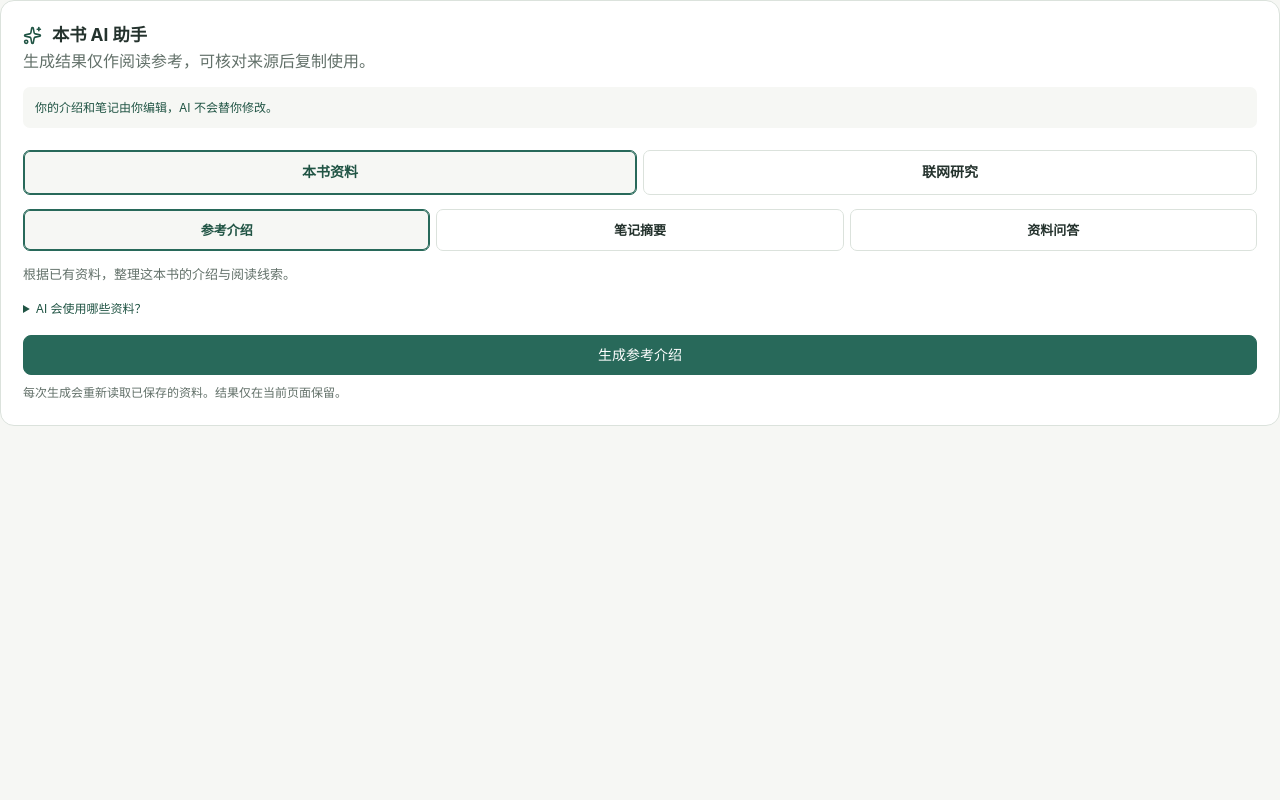
book AI read-only sidebar › clears the reference result, source details and manual-copy text without another request
Step 1. Click the button "生成参考介绍" → (640, 355), box [23, 335, 1257, 375]
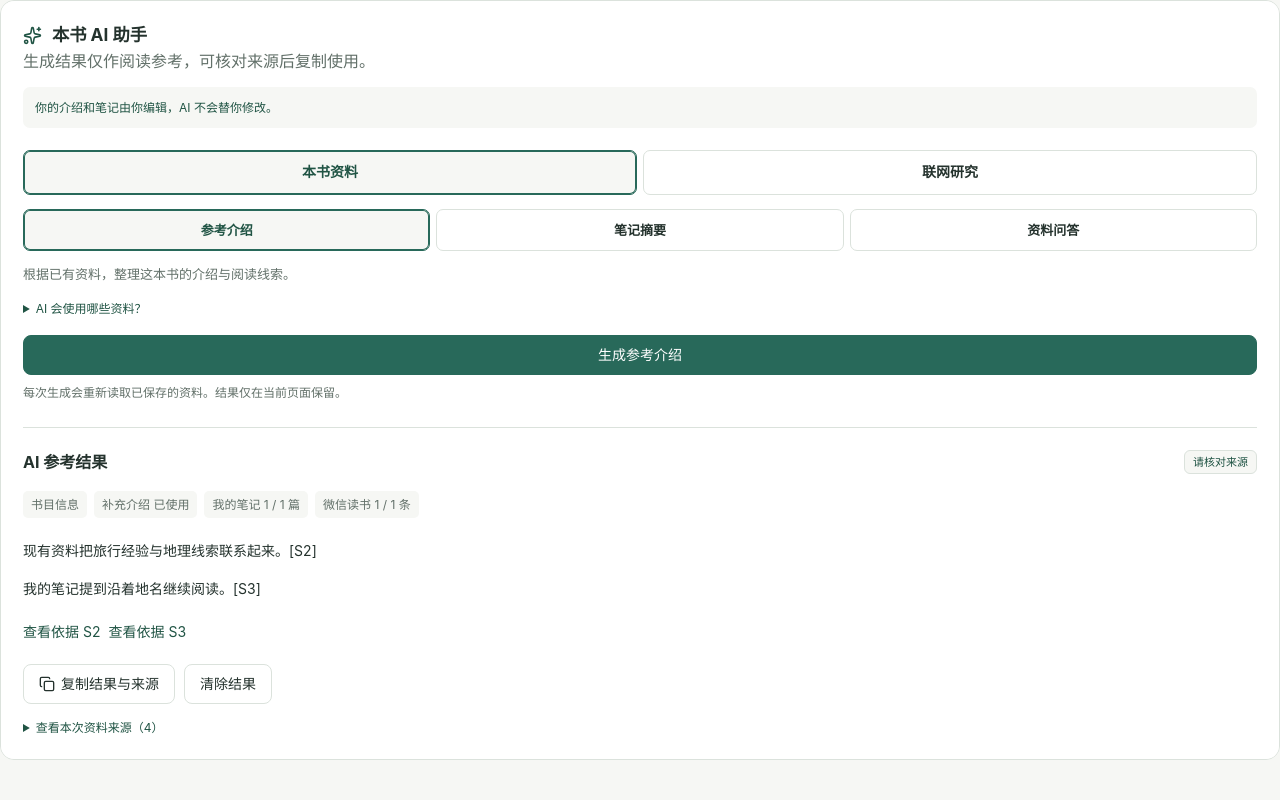
Step 2. Click the button "查看依据 S3" → (147, 632), box [108, 615, 186, 648]
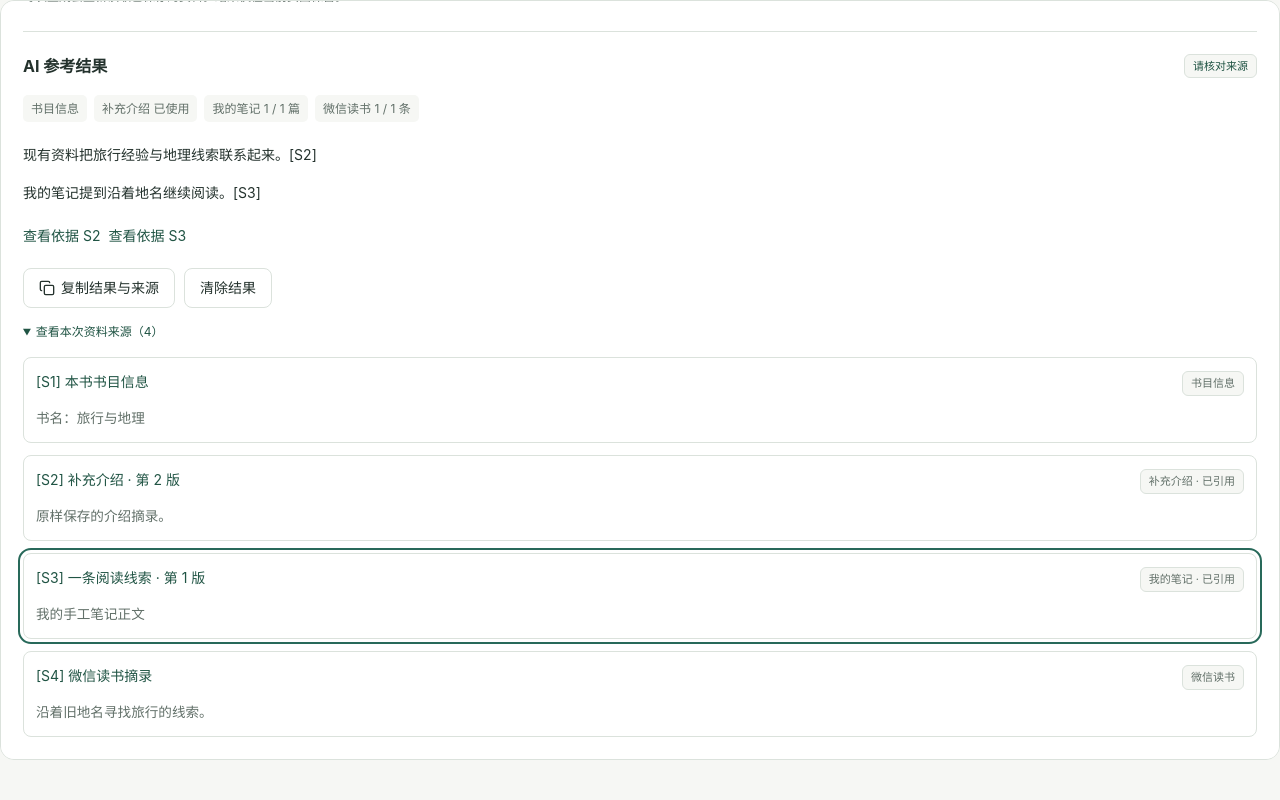
Step 3. Click the button "复制结果与来源" → (99, 288), box [23, 268, 175, 308]
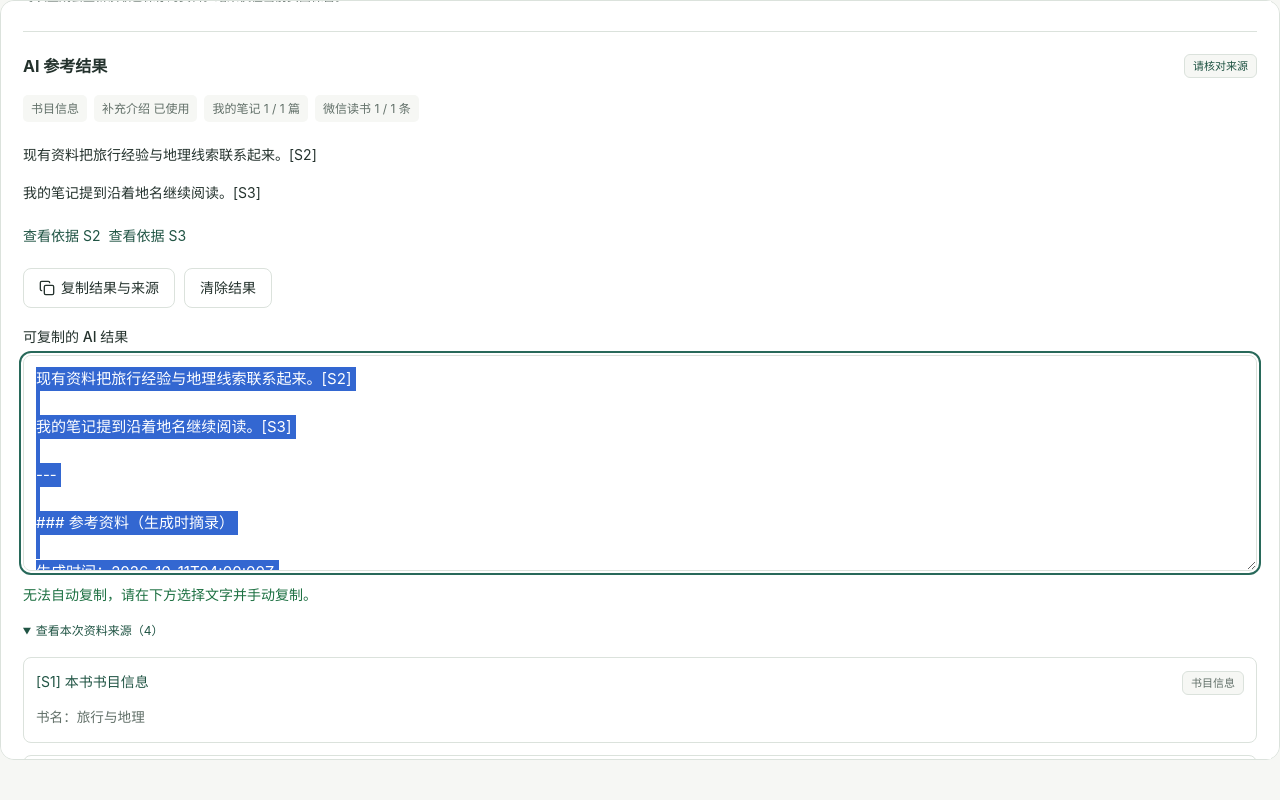
Step 4. Click the button "清除结果" → (228, 288), box [184, 268, 272, 308]
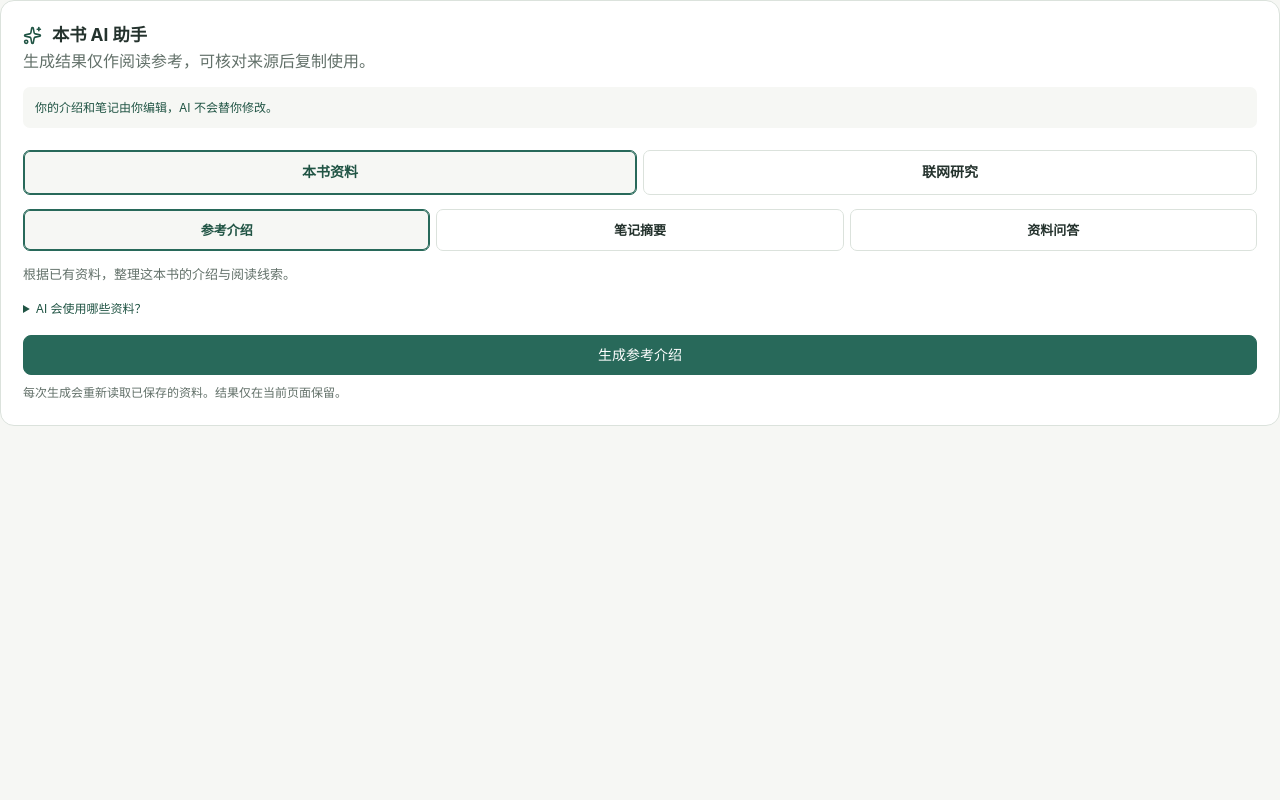
Check: the heading "AI 参考结果" is gone
Check: the text labelled "可复制的 AI 结果" is gone
Check: the button "复制结果与来源" is gone
